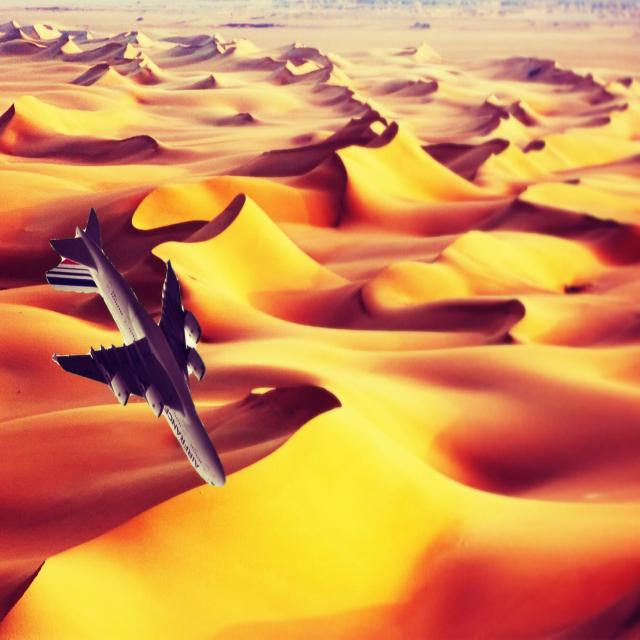airplane: (45, 205, 226, 488)
